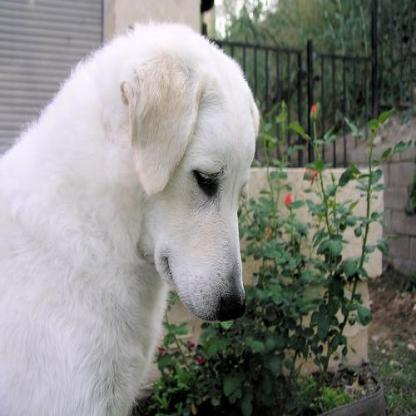kuvasz: (0, 18, 259, 414)
